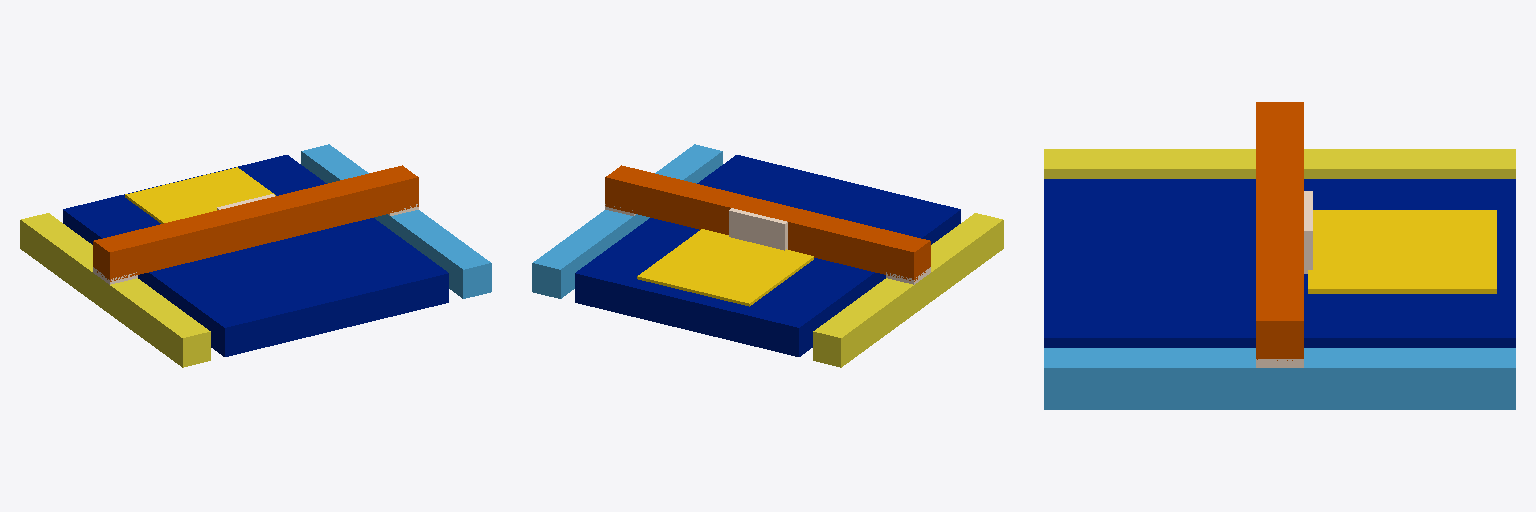
URDF robot description (vacuscan_bot):
<?xml version="1.0"?>
<robot name="vacuscan_bot">

<material name="blue">
  <color rgba="0.006 0.151 0.581 1"/>
</material>

<material name="white">
  <color rgba="1.0 0.91 0.827 1"/>
</material>

<material name="green">
  <color rgba="0.0 0.6 0.2 1"/>
</material>

<material name="red">
  <color rgba="0.8 0.1 0.1 1"/>
</material>

<material name="yellow">
  <color rgba="1.0 0.85 0.1 1"/>
</material>

<material name="gray">
  <color rgba="0.5 0.5 0.5 1"/>
</material>

<material name="purple">
  <color rgba="0.5 0.1 0.6 1"/>
</material>

<!-- baselinkl -->
  <link name="base_link">
    <visual>
    <origin rpy="0 0 0" xyz="0 0 0" /> 
      <geometry>
        <box size="0.8 1.0 0.1"/>
      </geometry>
      <material name="blue"/>
    </visual>
    <inertial>
      <mass value="1.2"/>
      <origin rpy="0 0 0" xyz="0 0 0"/>
      <inertia ixx="0.0003333333333333334" ixy="0" ixz="0" iyy="0.0003333333333333334" iyz="0" izz="0.0003333333333333334"/>
    </inertial>
    <collision>
      <geometry>
        <box size="0.8 1.0 0.1"/>
      </geometry>
    </collision>
  </link>


<!-- left rail -->
  <link name="rail_left_link">
    <visual>
      <geometry>
        <box size="0.1 1.0 0.1"/>
      </geometry>
    </visual>
    <inertial>
      <mass value="0.5"/>
      <origin rpy="0 0 0" xyz="0 0 0"/>
      <inertia ixx="0.0003333333333333334" ixy="0" ixz="0" iyy="0.0003333333333333334" iyz="0" izz="0.0003333333333333334"/>
    </inertial>
    <collision>
      <geometry>
        <box size="0.1 1.0 0.1"/>
      </geometry>
    </collision>
  </link>

    <joint name="base_link_to_rail_left_link_joint" type="fixed">
        <origin rpy="0 0 0" xyz="0.5 0 0.0" />
        <parent link="base_link" />
        <child link="rail_left_link" />
    </joint>

<!-- left mount -->
  <link name="mount_left_link">
    <visual>
      <geometry>
        <box size="0.1 0.1 0.02"/>
      </geometry>
      <material name="white"/>
    </visual>
    <inertial>
      <mass value="0.1"/>
      <origin rpy="0 0 0" xyz="0 0 0"/>
      <inertia ixx="0.0003333333333333334" ixy="0" ixz="0" iyy="0.0003333333333333334" iyz="0" izz="0.0003333333333333334"/>
    </inertial>
    <collision>
      <geometry>
        <box size="0.1 0.1 0.02"/>
      </geometry>
    </collision>
  </link>

    <joint name="rail_left_link_to_mount_left_link_joint" type="prismatic">
        <origin rpy="0 0 0" xyz="0 0 0.06" />
        <parent link="rail_left_link" />
        <child link="mount_left_link" />
        <axis xyz="0 1 0"/>
        <limit effort="100" velocity="0.1" lower="-0.45" upper="0.2"/>
    </joint>

<!-- right rail -->
  <link name="rail_right_link">
    <visual>
      <geometry>
        <box size="0.1 1.0 0.1"/>
      </geometry>
    </visual>
    <inertial>
      <mass value="0.5"/>
      <origin rpy="0 0 0" xyz="0 0 0"/>
      <inertia ixx="0.0003333333333333334" ixy="0" ixz="0" iyy="0.0003333333333333334" iyz="0" izz="0.0003333333333333334"/>
    </inertial>
    <collision>
      <geometry>
        <box size="0.1 1.0 0.1"/>
      </geometry>
    </collision>
  </link>

    <joint name="base_link_to_rail_right_link_joint" type="fixed">
        <origin rpy="0 0 0" xyz="-0.5 0 0.0" />
        <parent link="base_link" />
        <child link="rail_right_link" />
    </joint>

<!-- right mount -->
  <link name="mount_right_link">
    <visual>
      <geometry>
        <box size="0.1 0.1 0.02"/>
      </geometry>
      <material name="white"/>
    </visual>
    <inertial>
      <mass value="0.1"/>
      <origin rpy="0 0 0" xyz="0 0 0"/>
      <inertia ixx="0.0003333333333333334" ixy="0" ixz="0" iyy="0.0003333333333333334" iyz="0" izz="0.0003333333333333334"/>
    </inertial>
    <collision>
      <geometry>
        <box size="0.1 0.1 0.02"/>
      </geometry>
    </collision>
  </link>

    <joint name="rail_right_link_to_mount_right_link_joint" type="prismatic">
        <origin rpy="0 0 0" xyz="0 0 0.06" />
        <parent link="rail_right_link" />
        <child link="mount_right_link" />
        <axis xyz="0 1 0"/>
        <limit effort="100" velocity="0.1" lower="-0.45" upper="0.2"/>

        <!-- 👇 Make right mount copy left mount -->
        <mimic joint="rail_left_link_to_mount_left_link_joint"
            multiplier="1.0"
            offset="0.0"/>            
    </joint>


<!-- center_rail -->
  <link name="rail_center_link">
    <visual>
      <geometry>
        <box size="1.1 0.1 0.1"/>
      </geometry>
    </visual>
    <inertial>
      <mass value="0.1"/>
      <origin rpy="0 0 0" xyz="0 0 0"/>
      <inertia ixx="0.0003333333333333334" ixy="0" ixz="0" iyy="0.0003333333333333334" iyz="0" izz="0.0003333333333333334"/>
    </inertial>
    <collision>
      <geometry>
        <box size="1.1 0.1 0.1"/>
      </geometry>
    </collision>
  </link>

    <joint name="mount_left_link_to_rail_center_link_joint" type="fixed">
        <origin rpy="0 0 0" xyz="-0.5 0 0.05" />
        <parent link="mount_left_link" />
        <child link="rail_center_link" />
    </joint>

<!-- center mount -->
  <link name="mount_center_link">
    <visual>
      <geometry>
        <box size="0.2 0.02 0.1"/>
      </geometry>
      <material name="white"/>
    </visual>
    <inertial>
      <mass value="0.1"/>
      <origin rpy="0 0 0" xyz="0 0 0"/>
      <inertia ixx="0.0003333333333333334" ixy="0" ixz="0" iyy="0.0003333333333333334" iyz="0" izz="0.0003333333333333334"/>
    </inertial>
    <collision>
      <geometry>
        <box size="0.2 0.02 0.1"/>
      </geometry>
    </collision>
  </link>

    <joint name="rail_center_link_to_mount_center_link_joint" type="prismatic">
        <origin rpy="0 0 0" xyz="0 0.06 0" />
        <parent link="rail_center_link" />
        <child link="mount_center_link" />
        <axis xyz="1 0 0"/>
        <limit effort="100" velocity="0.1" lower="-0.16" upper="0.16"/>
    </joint>

<!-- wafer holder -->
  <link name="wafer_holder_link">
    <visual>
      <geometry>
        <box size="0.4 0.4 0.01"/>
      </geometry>
      <material name="yellow"/>
    </visual>
    <inertial>
      <mass value="0.1"/>
      <origin rpy="0 0 0" xyz="0 0 0"/>
      <inertia ixx="0.0003333333333333334" ixy="0" ixz="0" iyy="0.0003333333333333334" iyz="0" izz="0.0003333333333333334"/>
    </inertial>
    <collision>
      <geometry>
        <box size="0.4 0.4 0.01"/>
      </geometry>
    </collision>
  </link>

    <joint name="mount_center_link_to_wafer_holder_link_joint" type="fixed">
        <origin rpy="0 0 0" xyz="0 0.2 -0.045" />
        <parent link="mount_center_link" />
        <child link="wafer_holder_link" />
    </joint>
</robot>

--- Facts derived from the render (not from the file) ---
The picture shows the robot from 3 angles, left to right: view 1: azimuth 30°, elevation 25°; view 2: azimuth 150°, elevation 25°; view 3: azimuth 270°, elevation 25°; orthographic projection.
Model vacuscan_bot with 8 links and 7 joints (3 prismatic, 4 fixed), rooted at base_link, posed all joints at 0.
Links seen in each view (by area): view 1: base_link, rail_center_link, rail_right_link, rail_left_link, wafer_holder_link; view 2: base_link, rail_center_link, rail_right_link, wafer_holder_link, rail_left_link, mount_center_link; view 3: base_link, rail_left_link, wafer_holder_link, rail_right_link, rail_center_link, mount_center_link.
Link boxes in pixels (x1=…): base_link: x1=63, y1=155, x2=448, y2=356; rail_center_link: x1=93, y1=165, x2=418, y2=281; rail_right_link: x1=20, y1=213, x2=210, y2=367; rail_left_link: x1=301, y1=144, x2=491, y2=298; wafer_holder_link: x1=125, y1=167, x2=275, y2=223; base_link: x1=575, y1=155, x2=960, y2=356; rail_center_link: x1=605, y1=165, x2=930, y2=281; rail_right_link: x1=813, y1=213, x2=1003, y2=367; wafer_holder_link: x1=637, y1=229, x2=813, y2=306; rail_left_link: x1=532, y1=144, x2=722, y2=298; mount_center_link: x1=729, y1=208, x2=787, y2=250; base_link: x1=1044, y1=179, x2=1515, y2=347; rail_left_link: x1=1044, y1=348, x2=1515, y2=409; wafer_holder_link: x1=1308, y1=210, x2=1496, y2=293; rail_right_link: x1=1044, y1=149, x2=1515, y2=178; rail_center_link: x1=1256, y1=102, x2=1303, y2=360; mount_center_link: x1=1304, y1=191, x2=1312, y2=273.
Size in the robot's own frame: 1.1 by 1 by 0.21 metres.
Geometry: primitives only (box / cylinder / sphere), no mesh files.